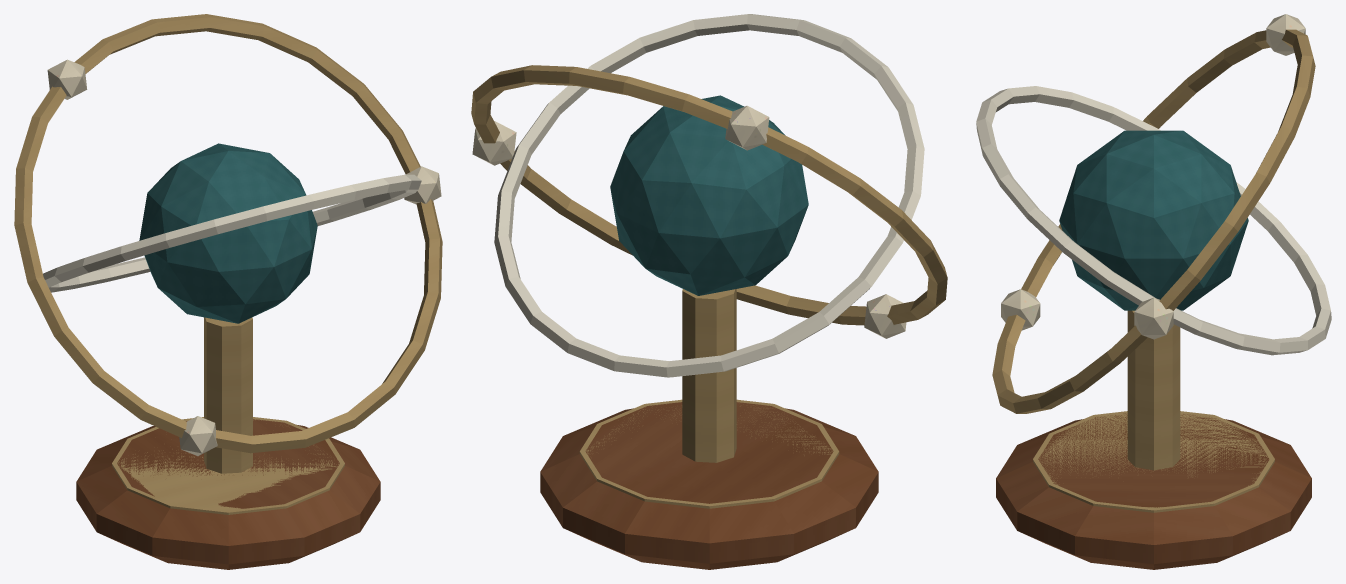
File: AST-CUR-001.glb
The picture shows the model from 3 angles, left to right: view 1: azimuth 30°, elevation 25°; view 2: azimuth 150°, elevation 25°; view 3: azimuth 270°, elevation 25°; orthographic projection. The views are drawn at different scales.
Visible parts, largest first — view 1: CURIO_WeightedFoot, CURIO_CeramicWorld, CURIO_InclinedOrbitA, CURIO_InclinedOrbitB, CURIO_BrassCollar, CURIO_Stem, CURIO_Satellite.002, CURIO_Satellite.001, CURIO_Satellite; view 2: CURIO_WeightedFoot, CURIO_CeramicWorld, CURIO_InclinedOrbitB, CURIO_InclinedOrbitA, CURIO_Stem, CURIO_BrassCollar, CURIO_Satellite.001, CURIO_Satellite.002, CURIO_Satellite; view 3: CURIO_WeightedFoot, CURIO_CeramicWorld, CURIO_InclinedOrbitA, CURIO_InclinedOrbitB, CURIO_BrassCollar, CURIO_Stem, CURIO_Satellite, CURIO_Satellite.002, CURIO_Satellite.001.
Boxes of the visible parts, x1,y1,x2,y2 form: CURIO_WeightedFoot: [76, 419, 380, 569]; CURIO_CeramicWorld: [139, 143, 317, 323]; CURIO_InclinedOrbitA: [14, 14, 442, 453]; CURIO_InclinedOrbitB: [43, 174, 421, 292]; CURIO_BrassCollar: [112, 417, 344, 514]; CURIO_Stem: [204, 317, 252, 473]; CURIO_Satellite.002: [179, 416, 217, 456]; CURIO_Satellite.001: [47, 59, 87, 99]; CURIO_Satellite: [404, 166, 441, 204]; CURIO_WeightedFoot: [540, 402, 878, 569]; CURIO_CeramicWorld: [610, 95, 808, 295]; CURIO_InclinedOrbitB: [494, 14, 924, 377]; CURIO_InclinedOrbitA: [471, 65, 947, 325]; CURIO_Stem: [682, 289, 736, 462]; CURIO_BrassCollar: [579, 399, 839, 508]; CURIO_Satellite.001: [725, 105, 769, 150]; CURIO_Satellite.002: [864, 294, 906, 338]; CURIO_Satellite: [472, 121, 516, 165]; CURIO_WeightedFoot: [996, 413, 1311, 569]; CURIO_CeramicWorld: [1059, 130, 1248, 310]; CURIO_InclinedOrbitA: [992, 29, 1315, 413]; CURIO_InclinedOrbitB: [976, 86, 1331, 355]; CURIO_BrassCollar: [1033, 411, 1274, 512]; CURIO_Stem: [1127, 310, 1180, 470]; CURIO_Satellite: [1134, 297, 1173, 339]; CURIO_Satellite.002: [1001, 289, 1040, 330]; CURIO_Satellite.001: [1266, 14, 1305, 55].
Bounding box in the file's own units: 0.4687 × 0.483 × 0.3376.
5 materials, 5 textured.
